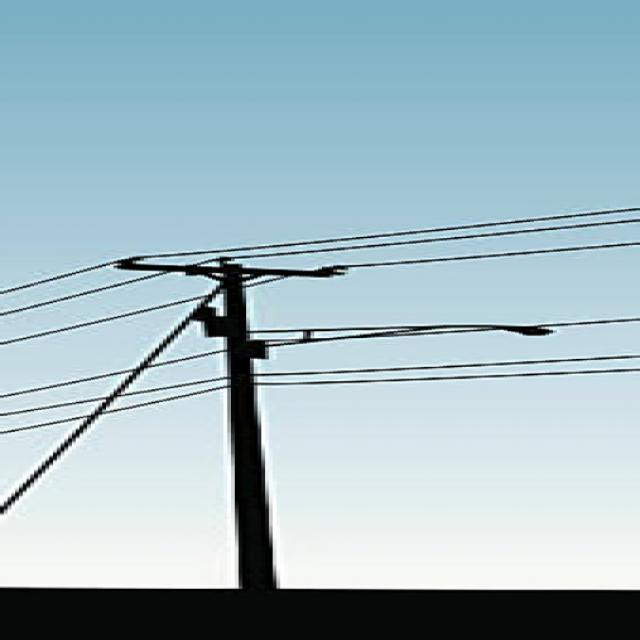pole: (51, 234, 566, 612)
